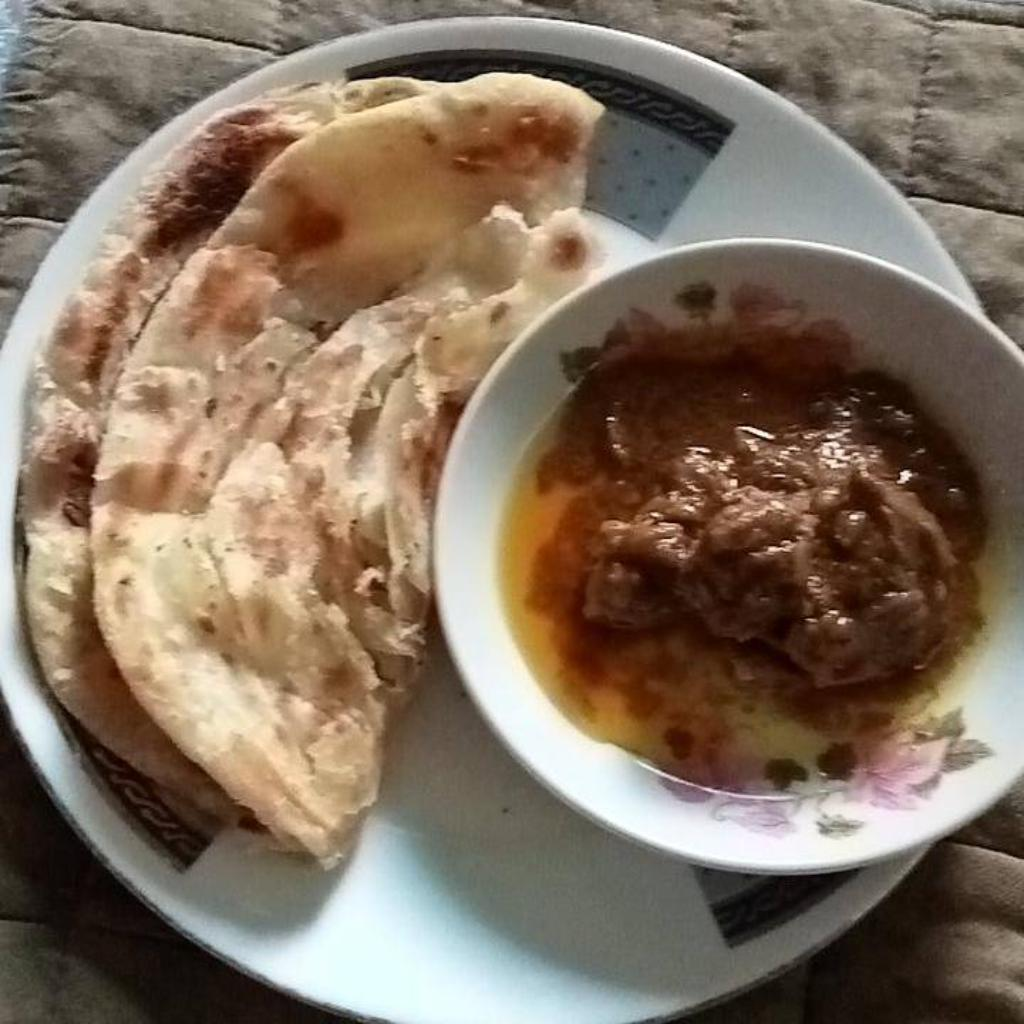chicken: (583, 397, 980, 687)
ruti: (17, 74, 600, 865)
